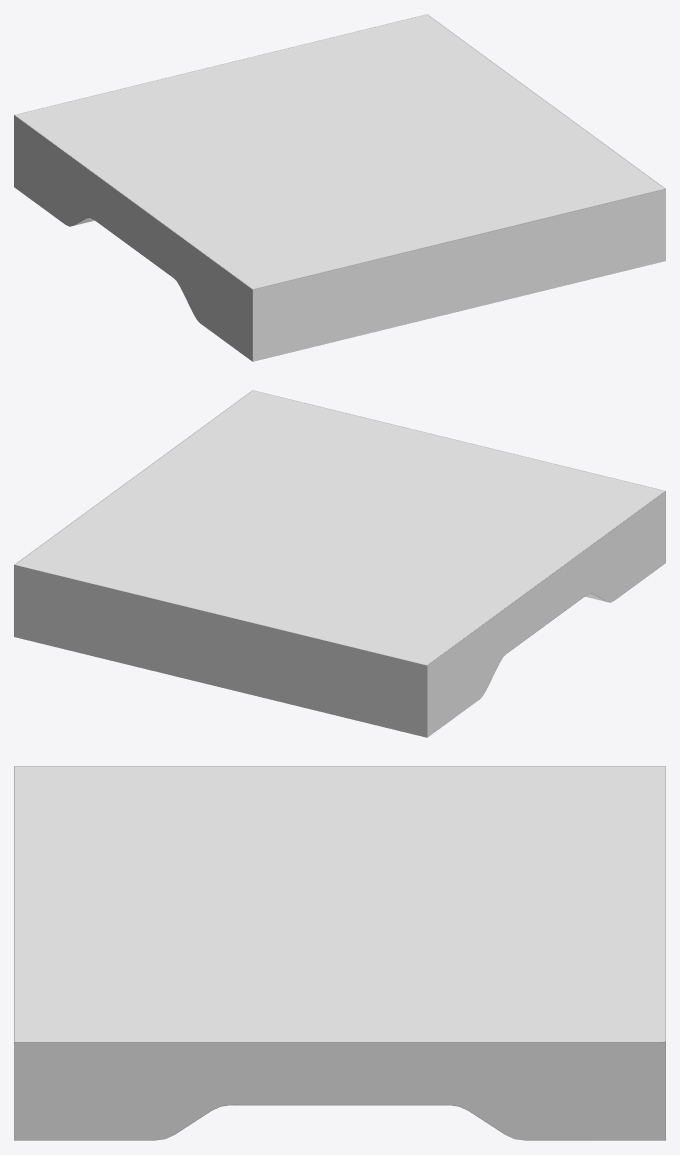
Rendered from Floor_Inter_Normal_03.FBX.
3 views of the same model, one above another, from view 1: azimuth 30°, elevation 25°; view 2: azimuth 150°, elevation 25°; view 3: azimuth 270°, elevation 25° (orthographic). The views are drawn at different scales.
Visible parts, largest first — view 1: Floor_Inter_Normal_03; view 2: Floor_Inter_Normal_03; view 3: Floor_Inter_Normal_03.
Boxes of the visible parts, x1,y1,x2,y2 form: Floor_Inter_Normal_03: (14,14,665,361); Floor_Inter_Normal_03: (14,390,665,737); Floor_Inter_Normal_03: (14,766,665,1140).
Size of the model in its own units: 12 by 2 by 12.
